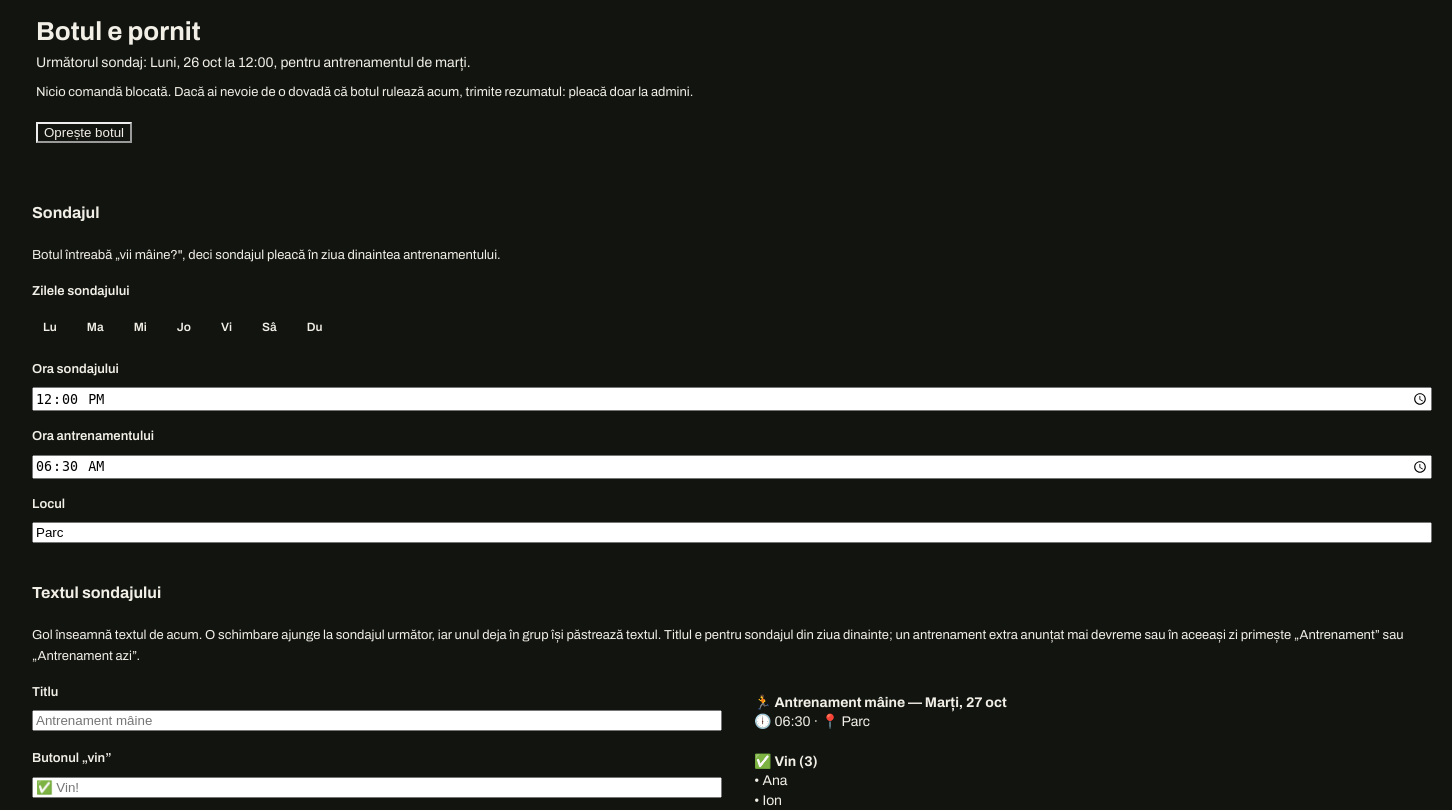
it: setările › o oră golită blochează salvarea cu motivul ei
Expected: the text "Textul sondajului" is shown, [24,581,169,605]
Clear the time field labelled "Ora sondajului" at (732, 399), box [32,387,1432,411]
(page scrolled)
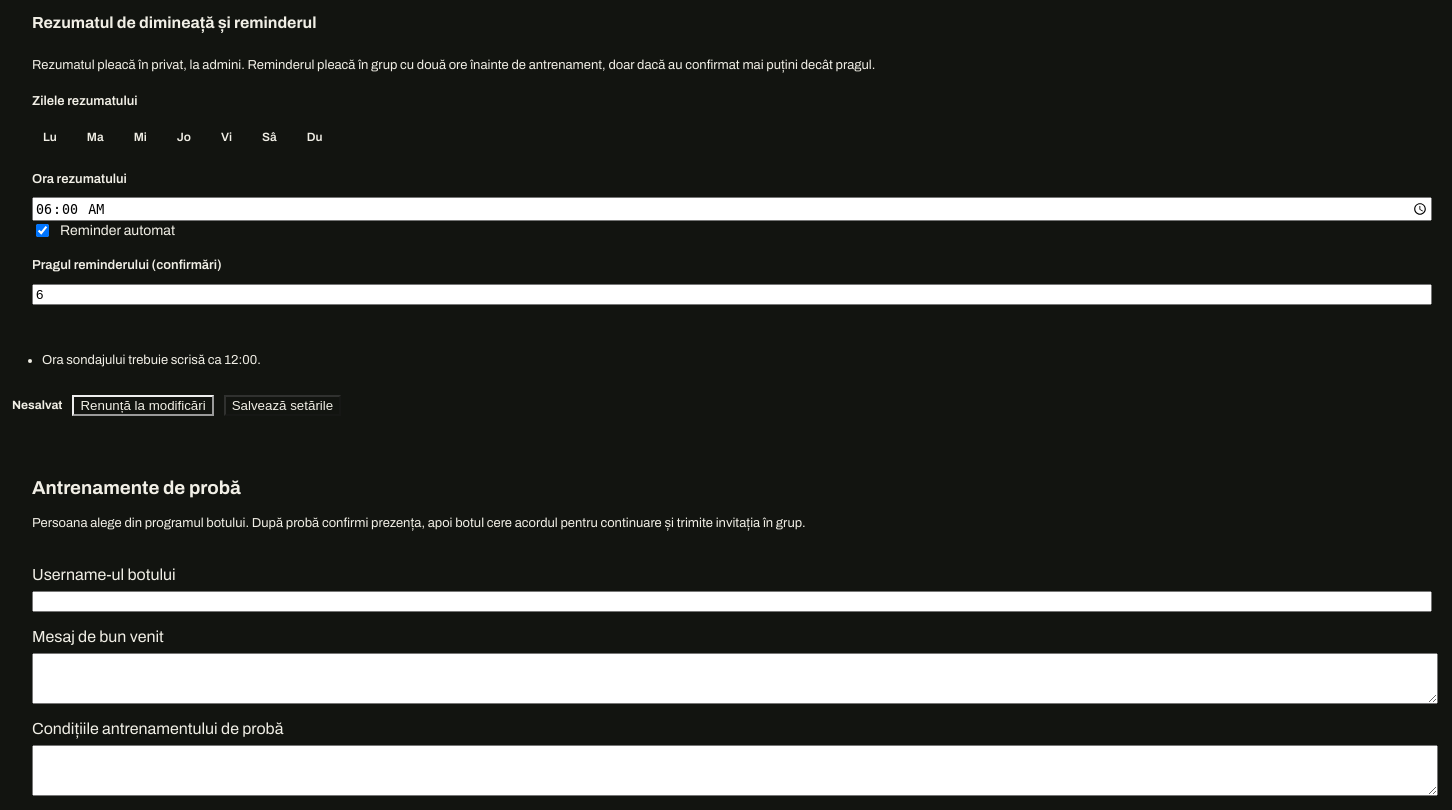
Expected: the button "Salvează setările" is disabled, [224,395,341,416]
Expected: the message reads "Ora sondajului trebuie scrisă ca 12:00.", [42,353,261,367]
